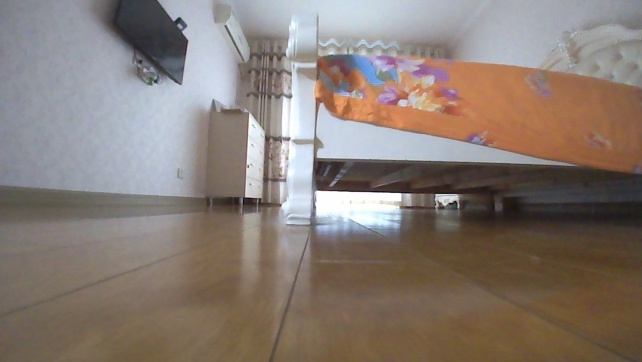bed: (275, 10, 641, 228)
